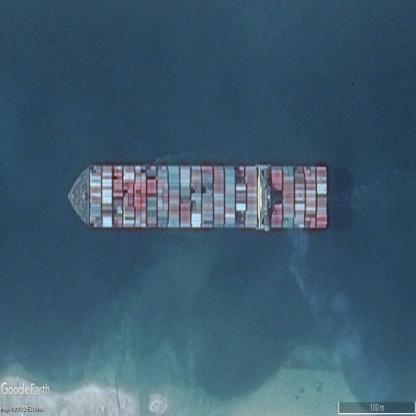ship: (68, 161, 330, 232)
